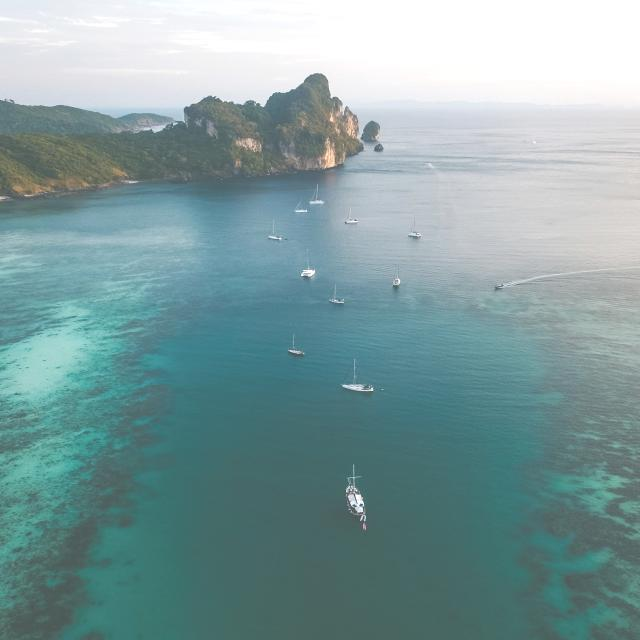ship: (332, 466, 377, 519), (332, 355, 374, 397), (279, 328, 306, 364), (292, 250, 318, 278), (261, 220, 287, 244), (327, 278, 346, 306), (404, 217, 425, 240), (301, 184, 324, 204), (389, 262, 402, 288), (290, 198, 307, 217), (341, 208, 358, 226)
